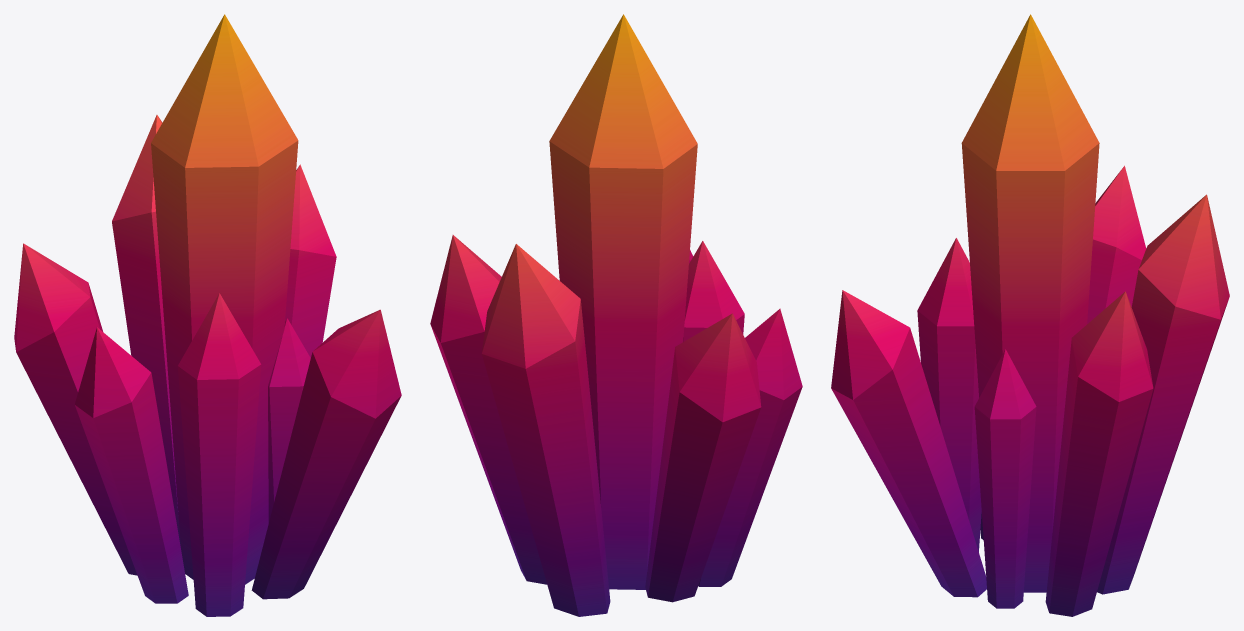
File: cristales10.fbx
3 renders of one model, left to right at view 1: azimuth 30°, elevation 25°; view 2: azimuth 150°, elevation 25°; view 3: azimuth 270°, elevation 25°, orthographic.
Parts seen in each view (by area): view 1: cristal04; view 2: cristal04; view 3: cristal04.
Part boxes in pixels (x1,y1,x2,y2): cristal04: (14, 14, 401, 616); cristal04: (430, 14, 802, 616); cristal04: (831, 14, 1229, 616).
Bounding box in the file's own units: 487 × 812 × 519.
Materials: 1 (1 with a texture image).
